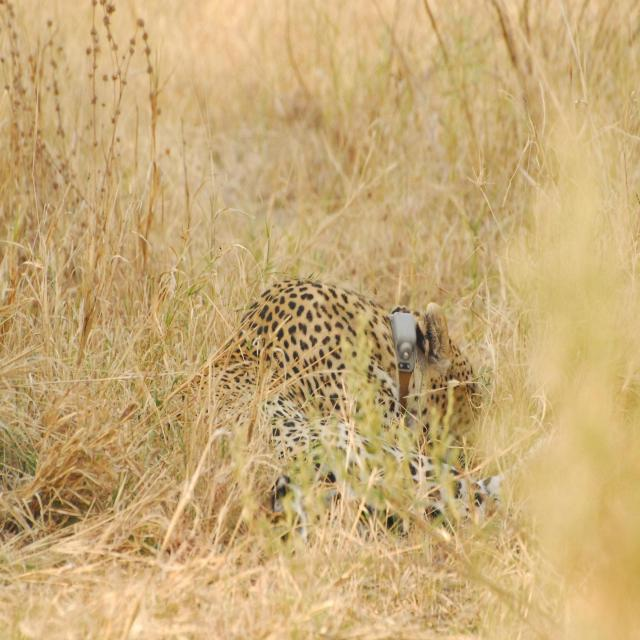Leopard: (138, 280, 527, 553)
